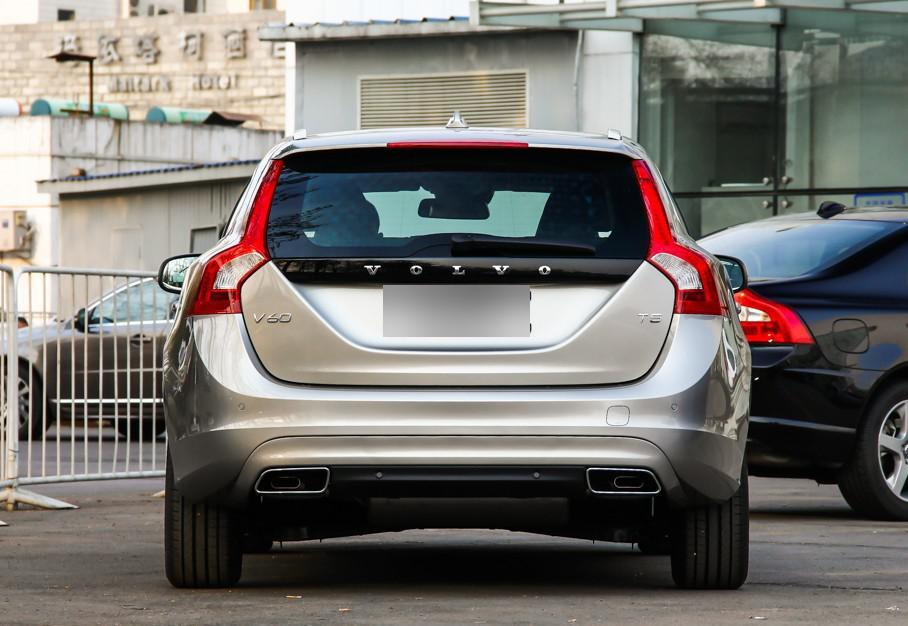Wagon: (159, 109, 752, 588)
